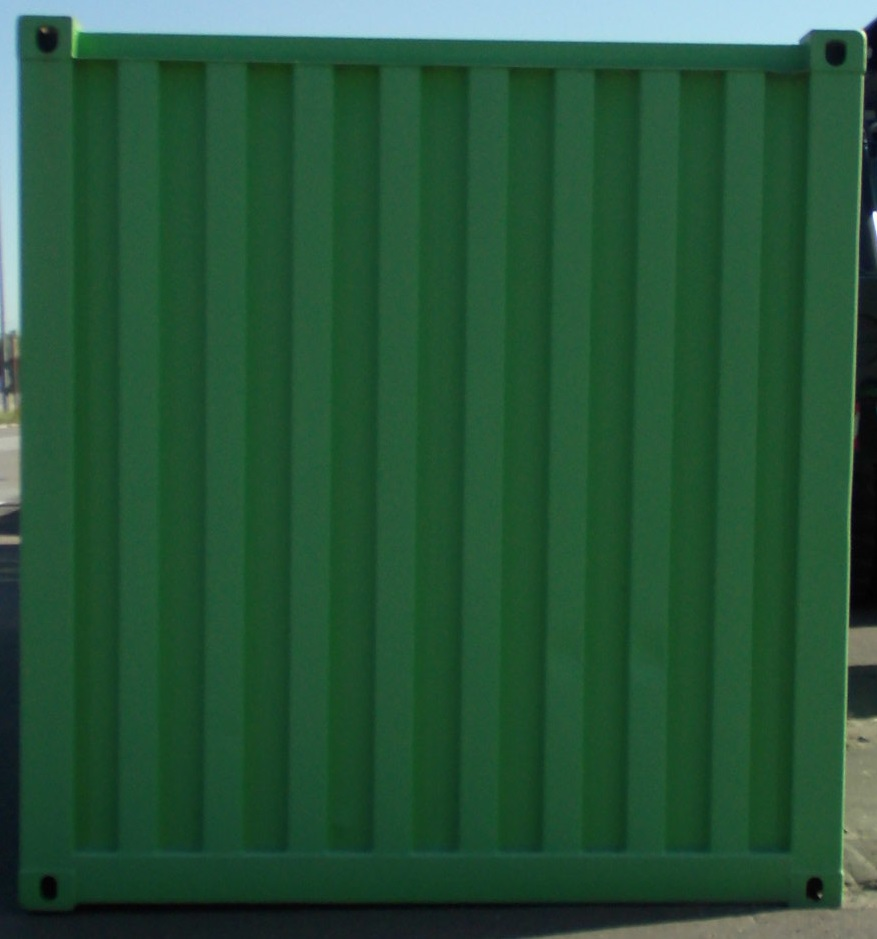container_no_door: (24, 21, 860, 913)
